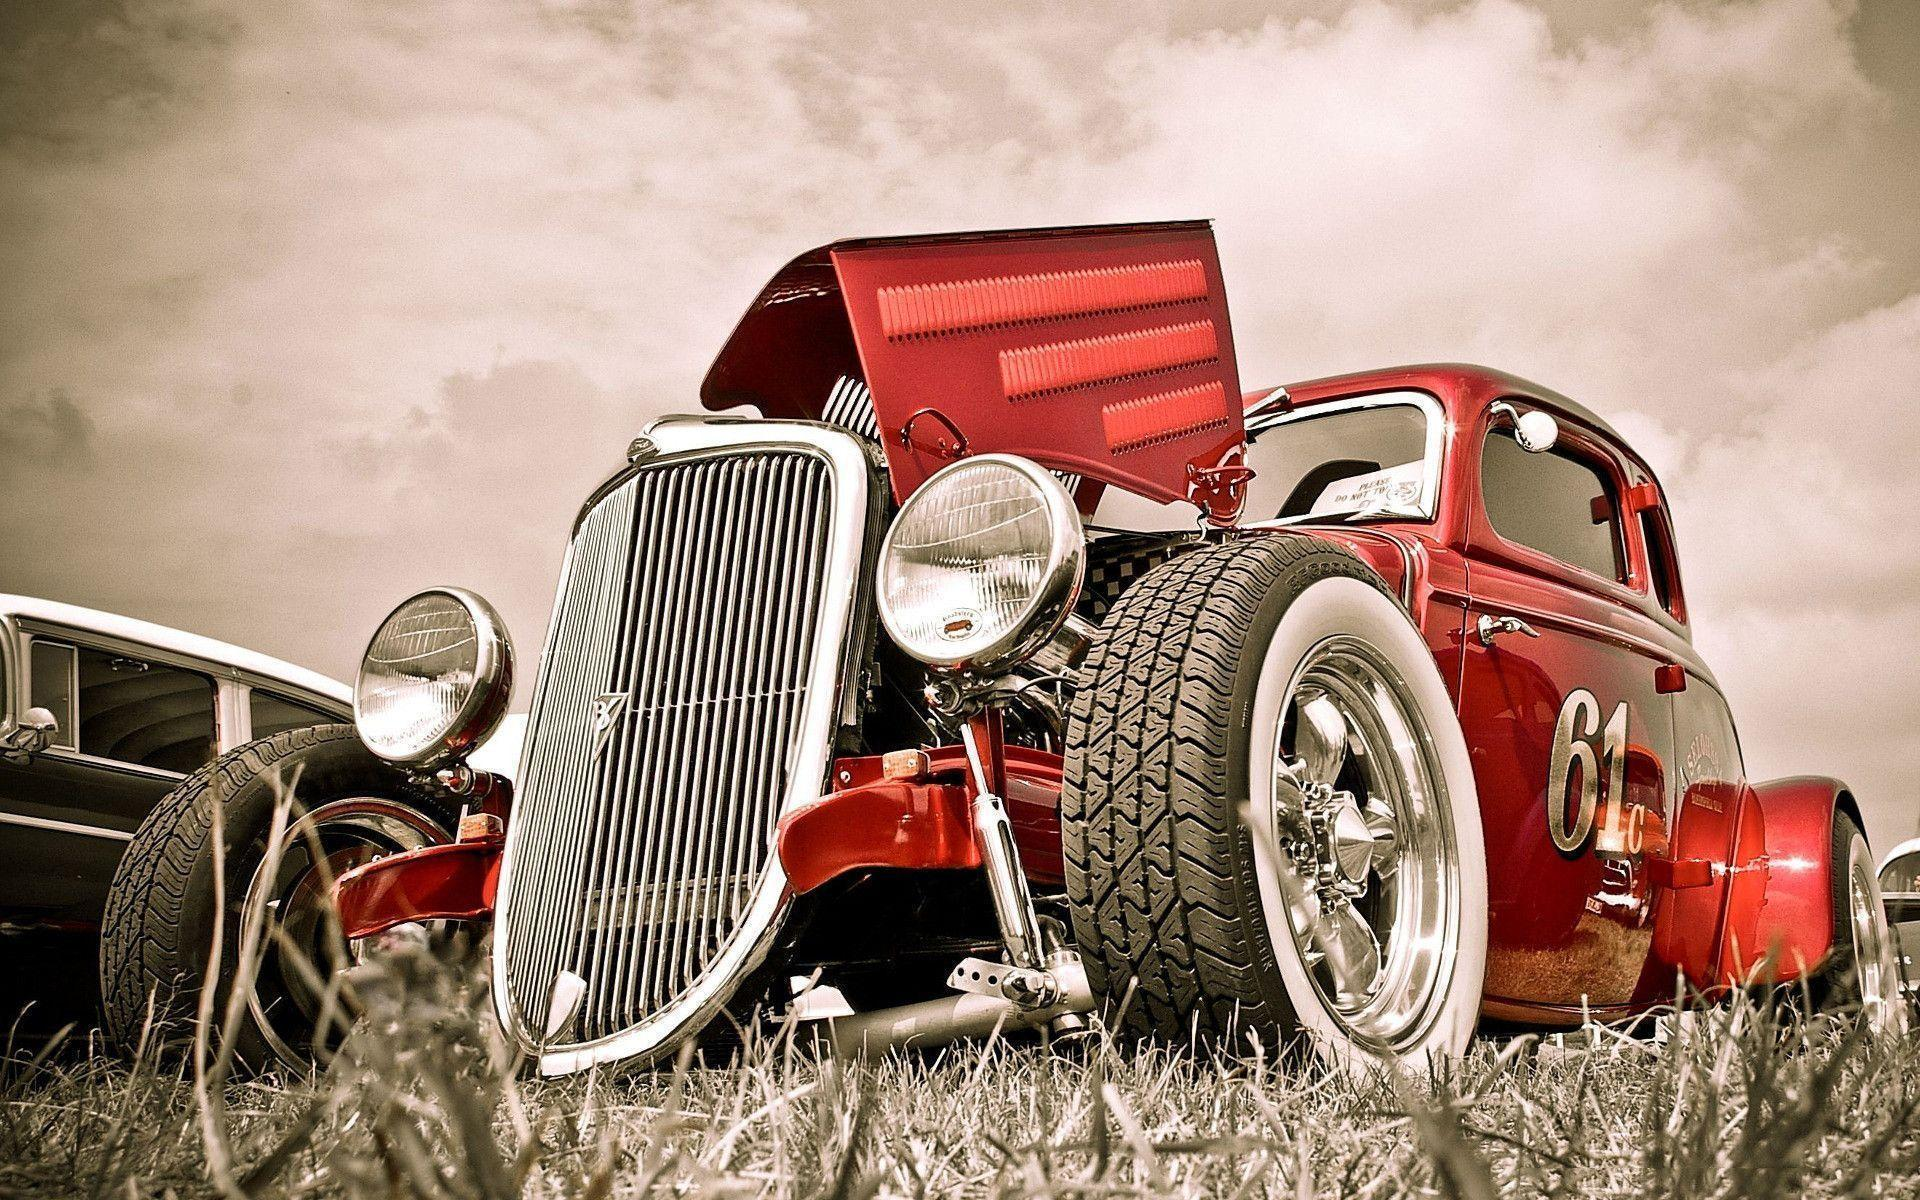Car: (390, 196, 1920, 1058), (0, 529, 453, 995)
